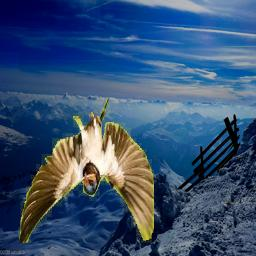Swallow: (18, 98, 154, 243)
